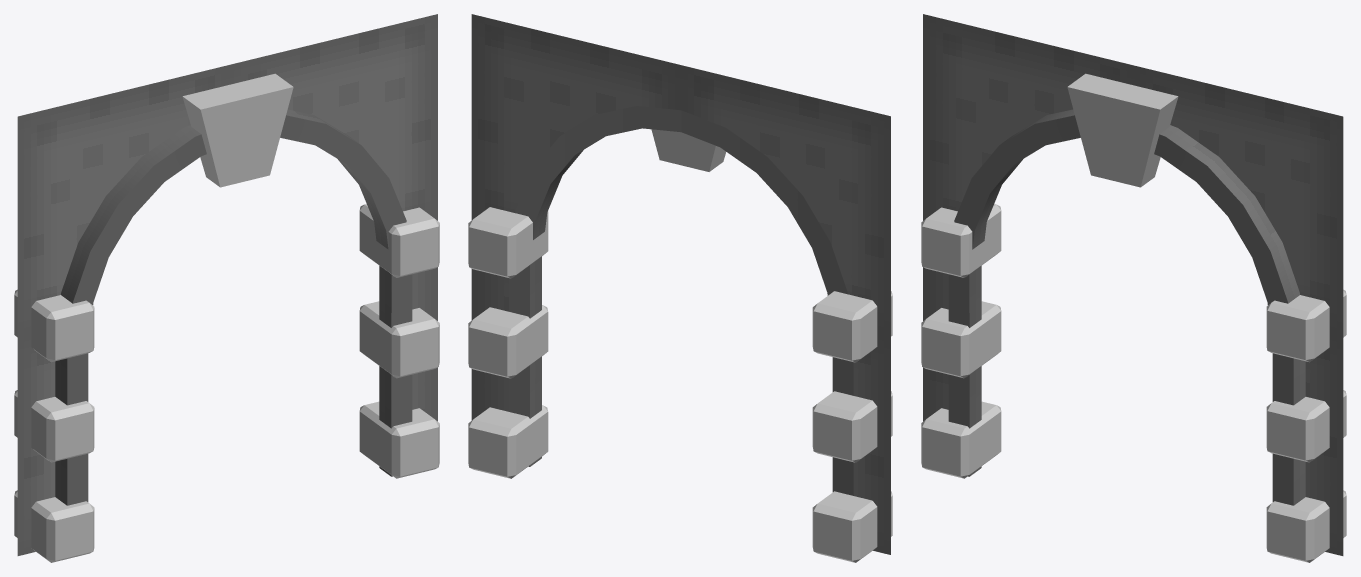
Rendered from wall_vert_entrance_32x32.obj.
3 renders of one model, left to right at view 1: azimuth 30°, elevation 25°; view 2: azimuth 150°, elevation 25°; view 3: azimuth 330°, elevation 25°, orthographic.
Visible parts, largest first — view 1: Door.Arch.001_Cylinder.014; view 2: Door.Arch.001_Cylinder.014; view 3: Door.Arch.001_Cylinder.014.
Part boxes in pixels (bbox=[...]): Door.Arch.001_Cylinder.014: bbox=[14, 14, 439, 562]; Door.Arch.001_Cylinder.014: bbox=[468, 14, 892, 562]; Door.Arch.001_Cylinder.014: bbox=[921, 14, 1346, 562].
Size of the model in its own units: 64 by 64 by 10.6.
